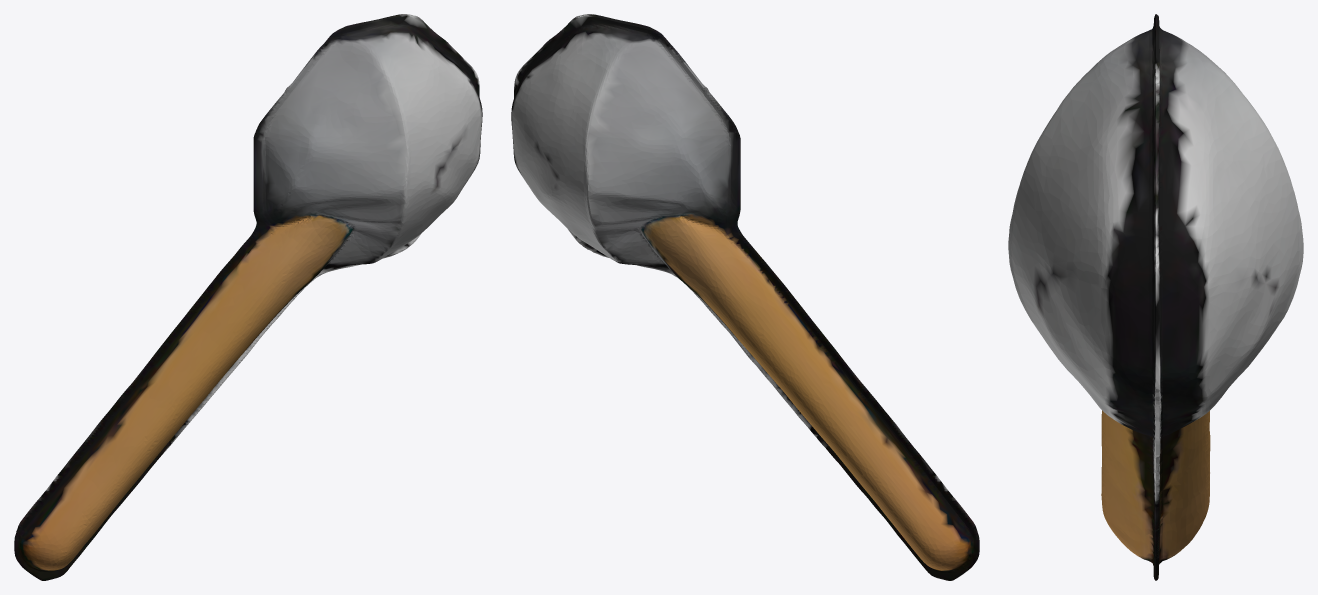
Rendered from mace_2.glb.
3 views of the same model, side by side, from view 1: azimuth 30°, elevation 25°; view 2: azimuth 150°, elevation 25°; view 3: azimuth 270°, elevation 25° (orthographic). The views are drawn at different scales.
Parts seen in each view (by area): view 1: geometry_0; view 2: geometry_0; view 3: geometry_0.
Boxes of the visible parts, <box> form: geometry_0: <box>14,14,482,580</box>; geometry_0: <box>511,14,979,580</box>; geometry_0: <box>1008,14,1303,580</box>.
Size of the model in its own units: 0.875 by 0.8651 by 0.292.
